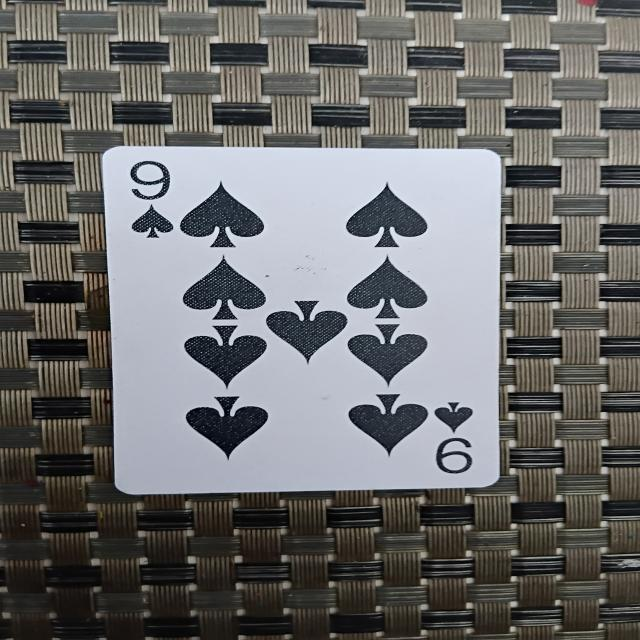9S: (120, 149, 502, 485)
